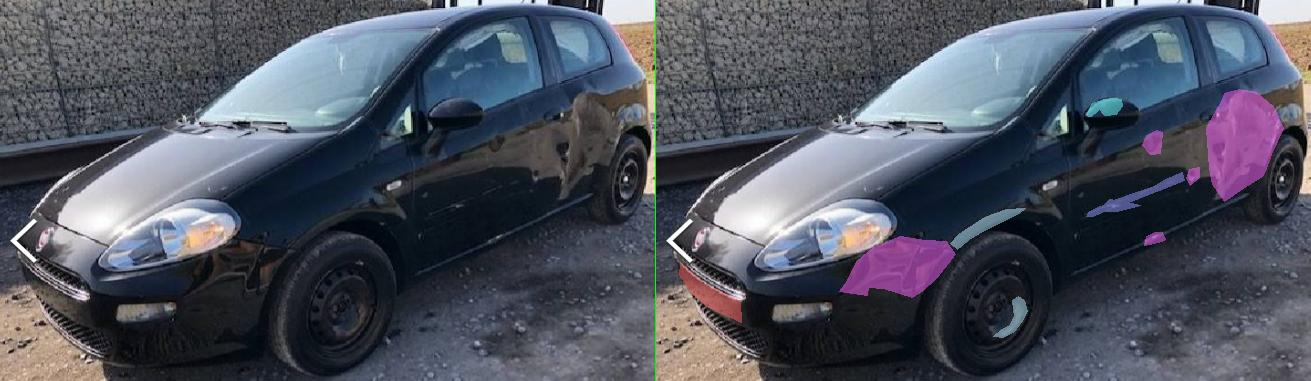Corrosion: (588, 208, 739, 249), (675, 296, 743, 337)
Dent: (1101, 89, 1255, 201), (366, 236, 598, 297), (973, 130, 1013, 154), (977, 232, 1019, 245), (1061, 167, 1087, 185)
Flaking: (861, 98, 933, 116)
Missing part: (46, 262, 170, 322)
Scratch: (861, 172, 1057, 216), (889, 199, 969, 211)
